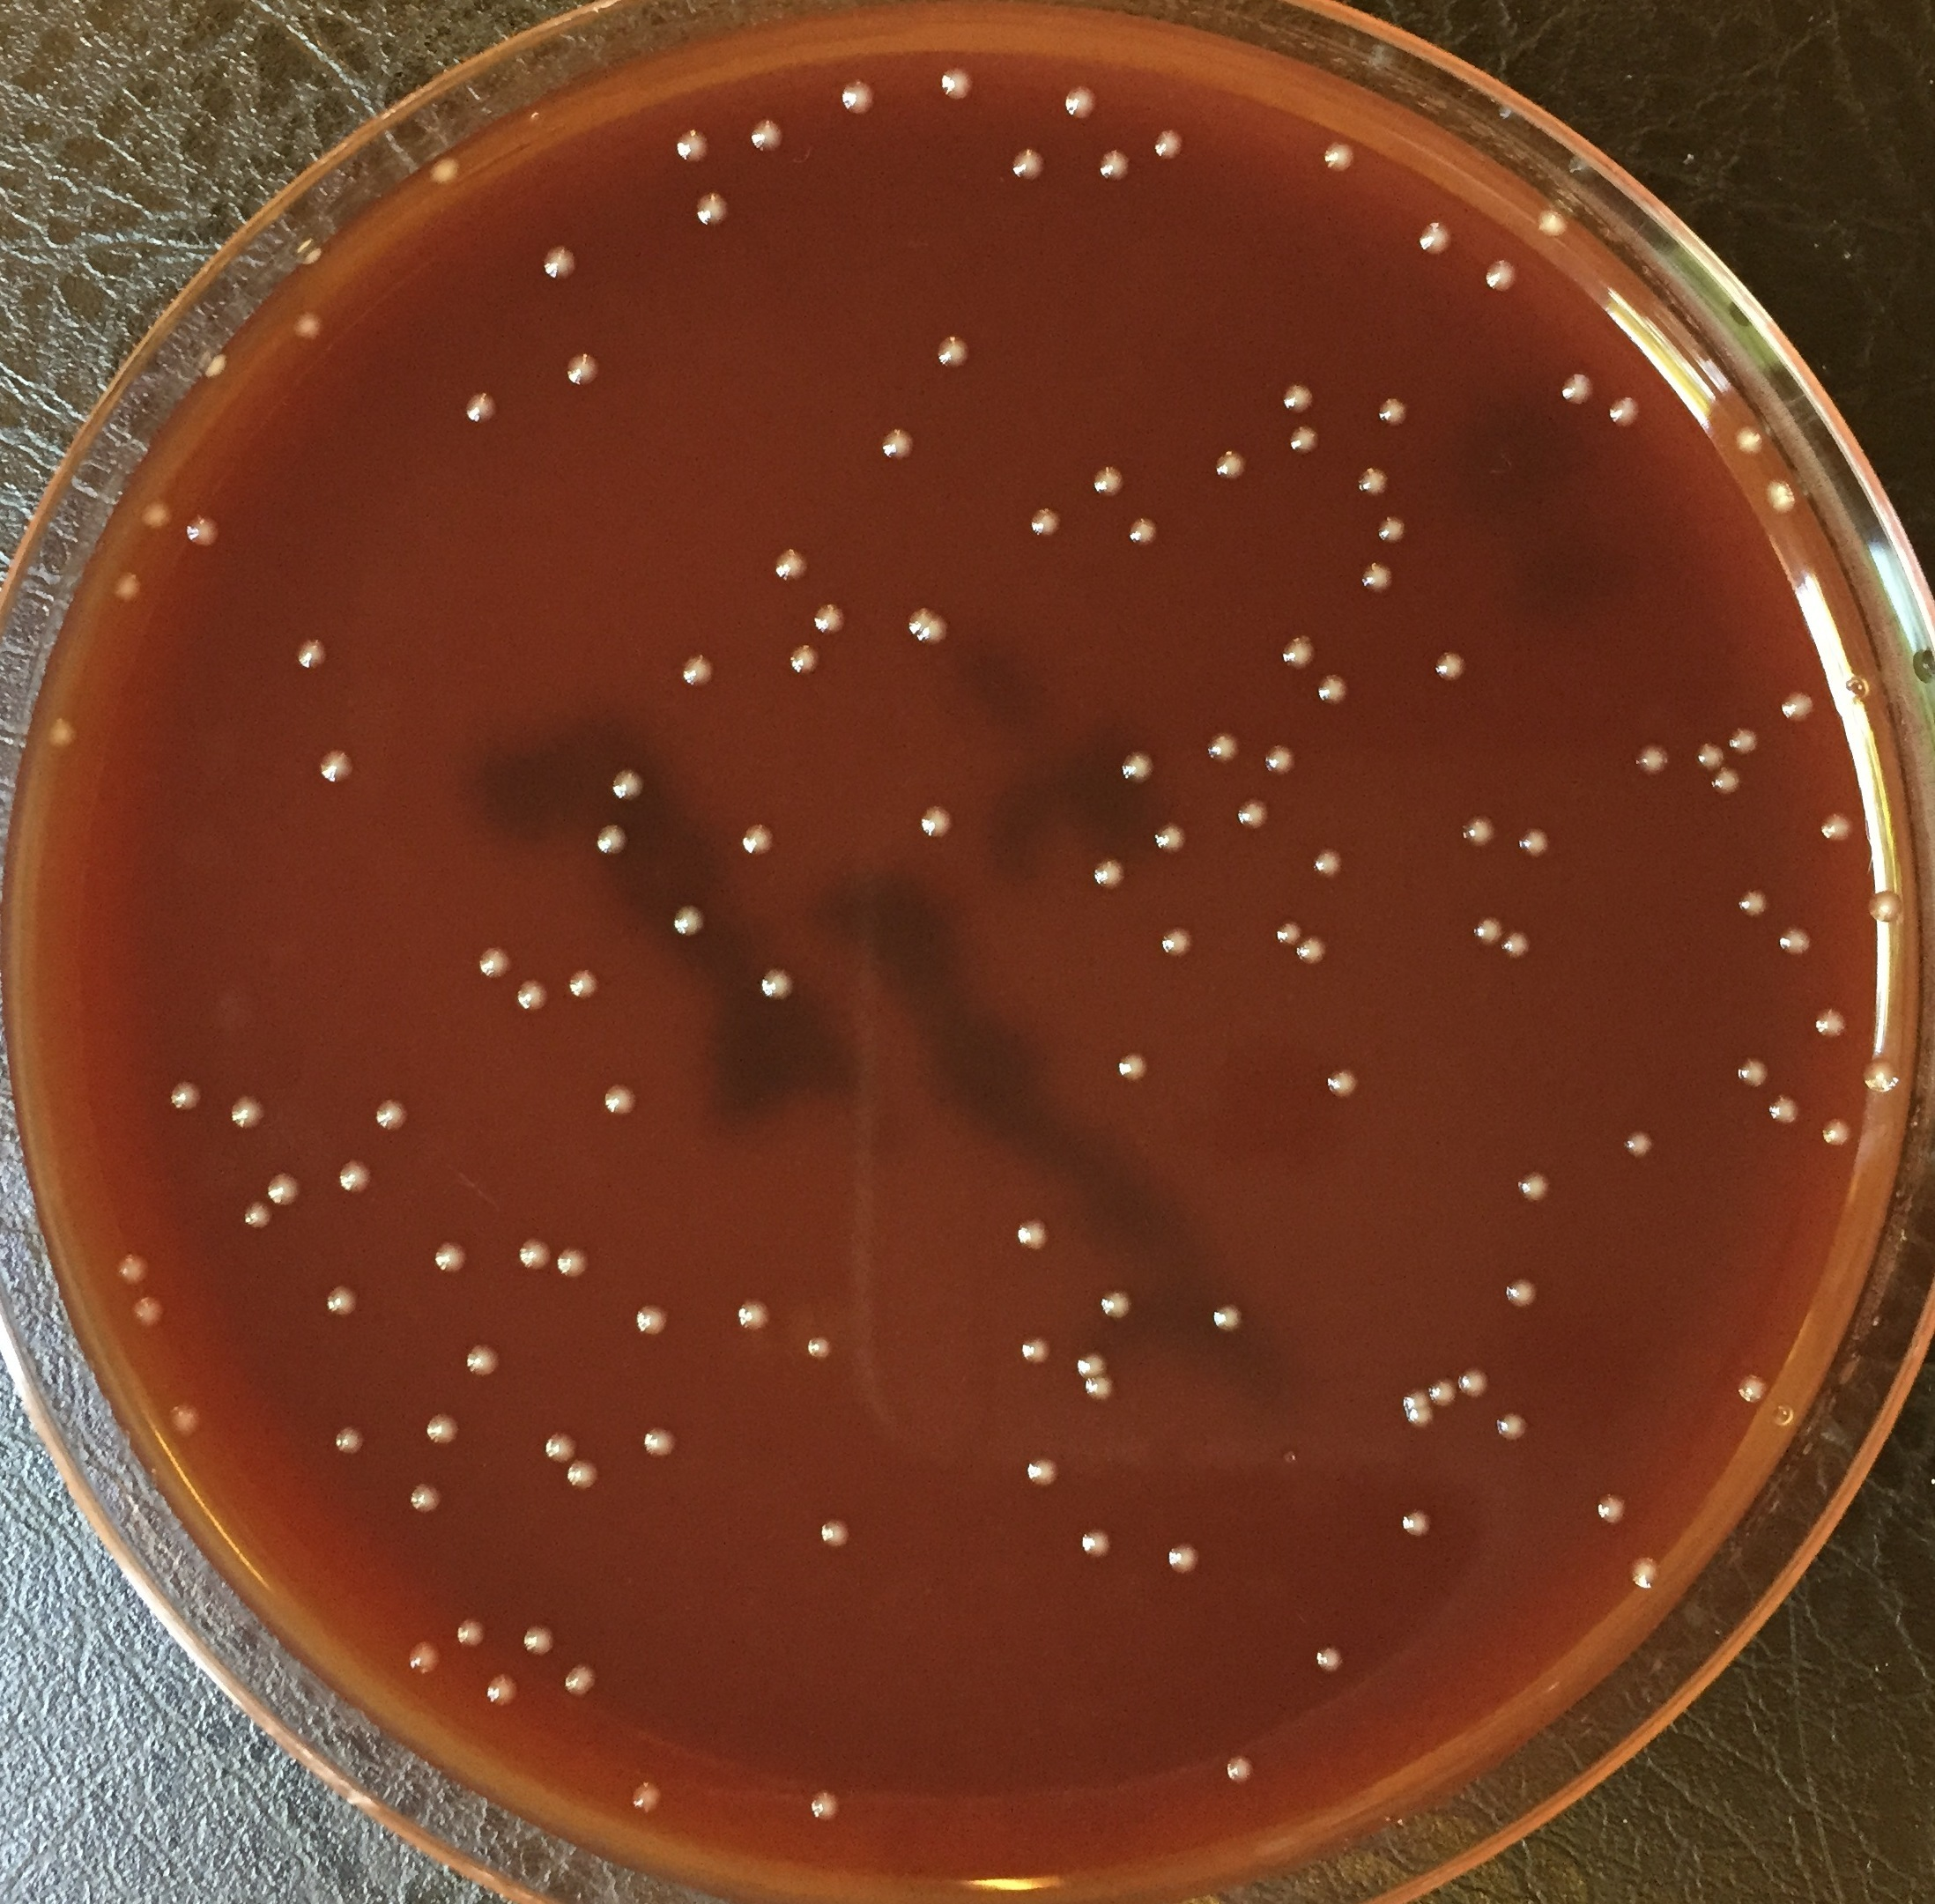sp06: (769, 542, 816, 598), (1006, 139, 1055, 187), (633, 1299, 680, 1344), (903, 605, 952, 649), (1761, 473, 1803, 523), (420, 1405, 467, 1449), (1025, 500, 1069, 547), (934, 66, 985, 106), (1862, 1053, 1905, 1098), (1288, 418, 1332, 464), (1602, 391, 1647, 434), (1020, 1452, 1067, 1494), (837, 75, 879, 122), (1865, 887, 1909, 931), (131, 1290, 176, 1332), (1081, 856, 1128, 896), (1276, 633, 1323, 673), (589, 819, 636, 860), (1513, 1168, 1557, 1210), (1356, 560, 1398, 603), (108, 1248, 153, 1289), (166, 1400, 206, 1445), (1311, 1641, 1358, 1679), (1731, 1055, 1778, 1093), (934, 331, 973, 378), (225, 1095, 272, 1133), (516, 1234, 558, 1276), (1095, 143, 1137, 185), (1060, 85, 1103, 126), (1534, 207, 1578, 248), (734, 1294, 774, 1337), (460, 1341, 506, 1379), (263, 1172, 309, 1210), (1110, 1046, 1158, 1083), (406, 1637, 448, 1677), (879, 424, 920, 464), (540, 244, 582, 284), (286, 309, 328, 349), (610, 764, 650, 806), (757, 966, 798, 1006), (166, 1072, 206, 1114), (1623, 1555, 1667, 1594), (1212, 448, 1255, 486), (638, 1425, 683, 1461), (460, 392, 506, 429), (181, 511, 216, 558), (1592, 1487, 1632, 1527), (1558, 368, 1599, 408), (748, 117, 788, 157), (328, 1423, 370, 1461), (408, 1473, 450, 1512), (1203, 731, 1245, 769), (1410, 218, 1452, 256), (689, 187, 730, 225), (680, 647, 718, 689), (472, 943, 514, 982), (1015, 1214, 1053, 1255), (371, 1095, 413, 1133), (1164, 1541, 1208, 1578), (1398, 1506, 1442, 1543), (1231, 795, 1274, 832), (549, 1247, 594, 1282), (560, 1663, 605, 1698), (626, 1778, 668, 1815), (1117, 750, 1159, 786), (1158, 924, 1199, 961), (1124, 516, 1166, 553), (425, 153, 467, 190), (1088, 466, 1131, 500), (429, 1234, 467, 1273), (336, 1158, 375, 1196), (1095, 1285, 1133, 1323), (451, 1615, 492, 1651), (1321, 139, 1361, 176), (563, 349, 603, 385), (812, 602, 852, 638), (563, 1458, 605, 1493), (1205, 1301, 1246, 1336), (1816, 807, 1858, 842), (596, 1083, 638, 1118), (485, 1669, 521, 1707), (1459, 813, 1497, 849), (1632, 739, 1670, 776), (1151, 126, 1187, 164), (913, 804, 950, 842), (1015, 1332, 1053, 1369), (1494, 1411, 1534, 1445), (1281, 380, 1316, 420), (317, 748, 357, 783), (540, 1430, 582, 1463), (1705, 765, 1747, 799), (1517, 823, 1553, 860), (1354, 464, 1391, 500), (1504, 1276, 1543, 1311), (1776, 689, 1815, 724), (669, 901, 704, 940), (802, 1787, 842, 1820), (816, 1517, 856, 1550), (1321, 1064, 1361, 1097), (132, 500, 173, 534), (513, 976, 553, 1010), (1260, 746, 1302, 778), (296, 635, 328, 677), (519, 1623, 556, 1658), (1402, 1400, 1438, 1435), (1471, 912, 1506, 949), (1766, 1091, 1801, 1128), (1429, 649, 1464, 685), (324, 1282, 363, 1315), (1731, 420, 1764, 459), (291, 246, 329, 279), (1290, 935, 1330, 966), (783, 645, 825, 675), (1220, 1754, 1255, 1789), (1621, 1128, 1656, 1163), (1776, 922, 1811, 957), (1816, 1114, 1853, 1147), (1372, 396, 1409, 429), (676, 126, 710, 162), (112, 570, 148, 603), (1145, 821, 1184, 853), (1307, 849, 1348, 879), (1426, 1377, 1461, 1411), (1736, 886, 1771, 919), (568, 966, 601, 1001), (1076, 1524, 1112, 1555), (44, 711, 75, 748), (797, 1334, 833, 1365), (1478, 263, 1518, 291), (1501, 929, 1534, 962), (1691, 738, 1724, 771), (1318, 673, 1353, 704), (1459, 1370, 1496, 1400), (741, 823, 777, 853), (239, 1201, 274, 1231), (1375, 511, 1405, 546), (1076, 1350, 1110, 1379), (1724, 724, 1755, 755), (1815, 1006, 1850, 1034), (1400, 1384, 1431, 1414), (1273, 921, 1306, 949), (204, 352, 234, 380), (1738, 1369, 1764, 1400), (1086, 1372, 1116, 1398)
